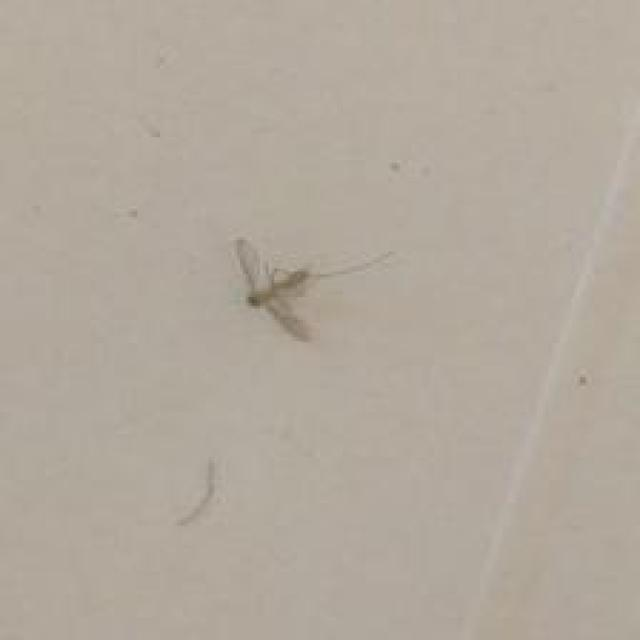Culex: (232, 234, 394, 343)
